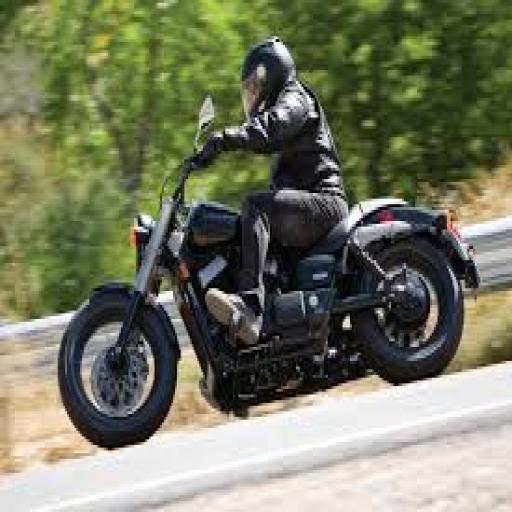helmet: (56, 92, 480, 448), (184, 34, 350, 344), (236, 34, 296, 120)
